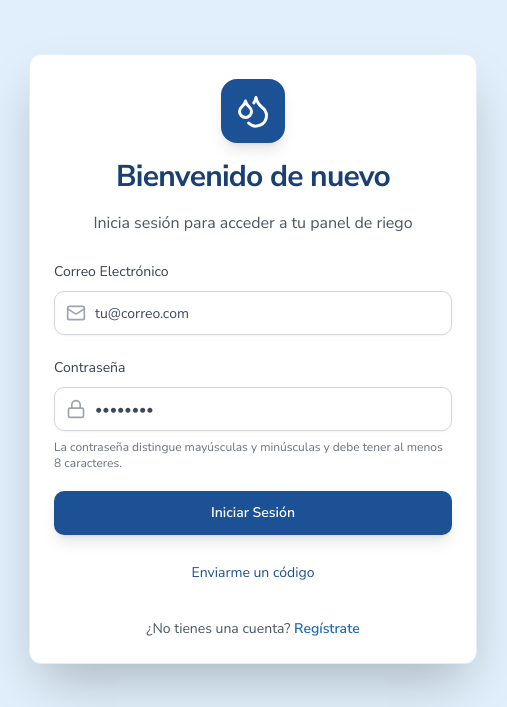
Login page module › displays a clear auth error when credentials are invalid
The width and height of the screenshot is (507, 707).
Step 1. Type "bad@demo.com" into the field labelled "Correo Electrónico" → [253, 313], box x1=54 y1=291 x2=452 y2=335
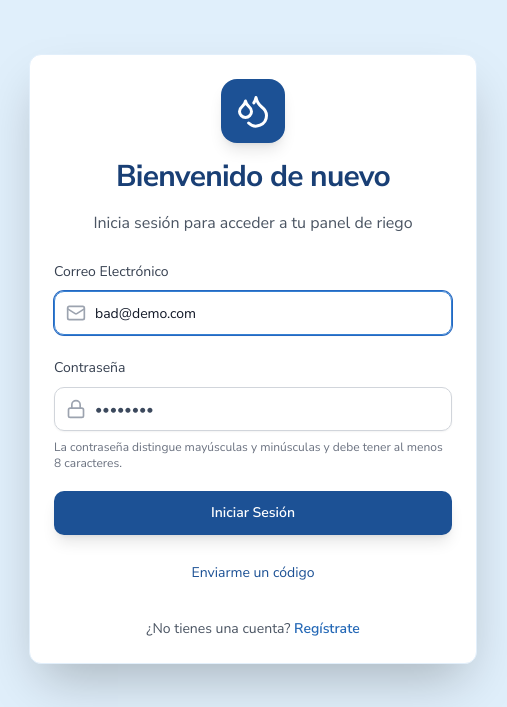
Step 2. Type "wrong" into the password field labelled "Contraseña" → [253, 409], box x1=54 y1=387 x2=452 y2=431
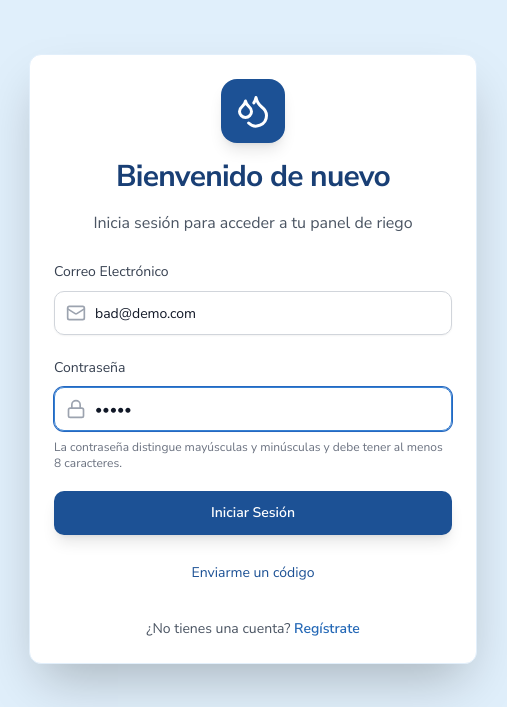
Step 3. Click the button "Iniciar Sesión" → [253, 513], box x1=54 y1=491 x2=452 y2=535
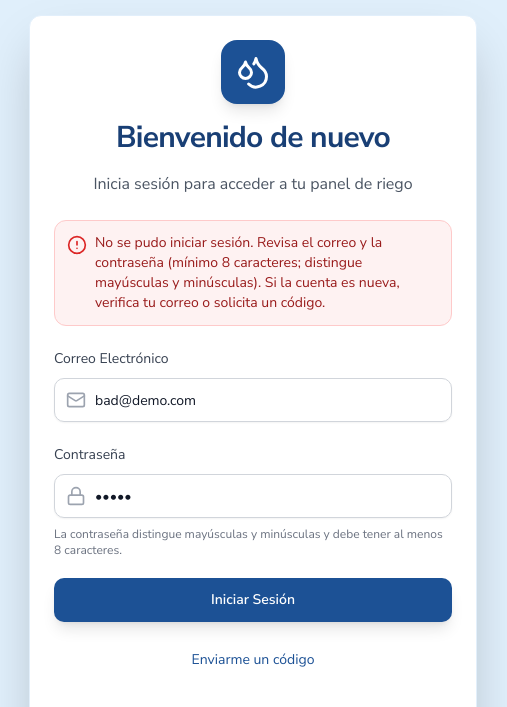
Expected: the text "No se pudo iniciar sesión" is shown, x1=95 y1=233 x2=400 y2=312
